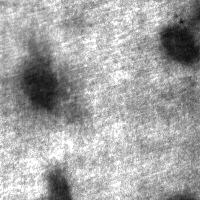patches: (0, 0, 74, 105), (6, 55, 78, 127), (21, 32, 58, 110), (160, 13, 199, 67), (37, 163, 70, 200)
